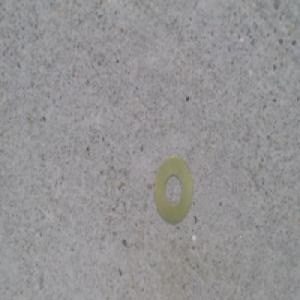Washer: (151, 153, 192, 224)
